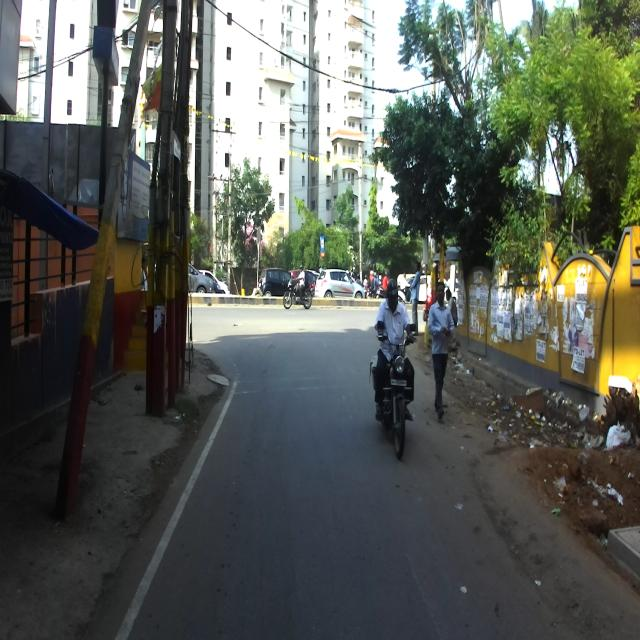electric pole ahead at: (149, 0, 197, 416)
motorcycle ahead at: (371, 324, 418, 462)
person ahead at: (429, 273, 458, 410)
